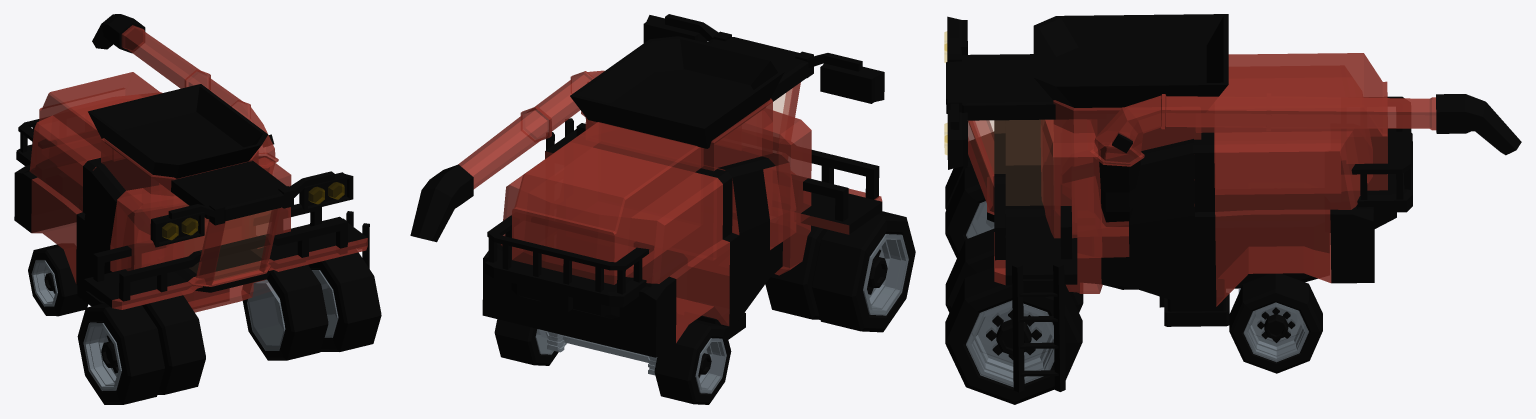
File: combineBase.fbx
3 views of the same model, side by side, from view 1: azimuth 30°, elevation 25°; view 2: azimuth 150°, elevation 25°; view 3: azimuth 270°, elevation 25° (orthographic). The views are drawn at different scales.
Visible parts, largest first — view 1: Combine, FLWheel, FRWheel, BRWheel, lights; view 2: Combine, FRWheel, BRWheel, BLWheel; view 3: Combine, FLWheel, BLWheel, FRWheel.
Boxes of the visible parts, x1,y1,x2,y2 form: Combine: [14, 14, 369, 312]; FLWheel: [242, 252, 381, 360]; FRWheel: [77, 295, 205, 404]; BRWheel: [28, 244, 88, 316]; lights: [162, 182, 344, 239]; Combine: [410, 14, 884, 375]; FRWheel: [765, 211, 915, 332]; BRWheel: [654, 319, 731, 404]; BLWheel: [494, 319, 558, 365]; Combine: [946, 14, 1521, 392]; FLWheel: [945, 228, 1083, 404]; BLWheel: [1229, 273, 1322, 373]; FRWheel: [945, 132, 994, 257].
Bounding box in the file's own units: 369 × 283 × 536.
